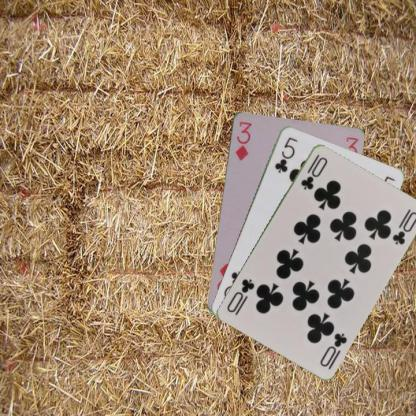10c: (298, 151, 328, 191), (318, 330, 349, 368)
3d: (232, 119, 253, 162)
5c: (272, 134, 298, 174)
